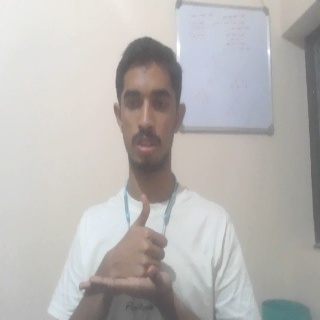Face: (110, 36, 190, 174)
Help: (76, 190, 181, 302)
